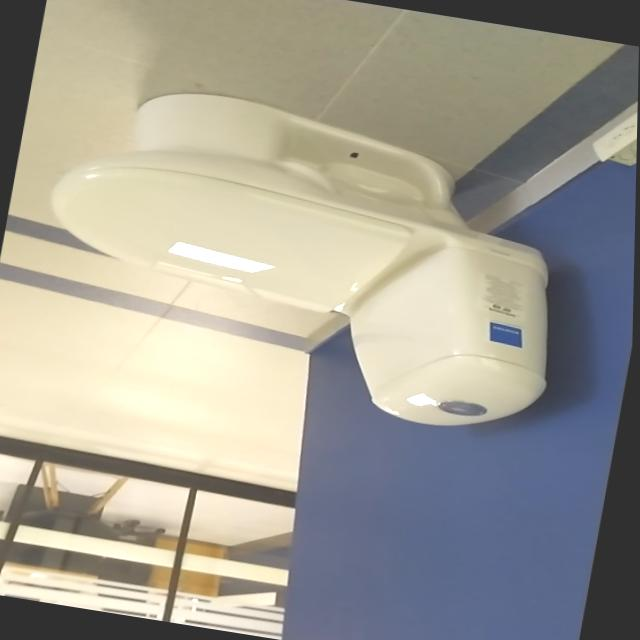toilet: (20, 71, 591, 443)
